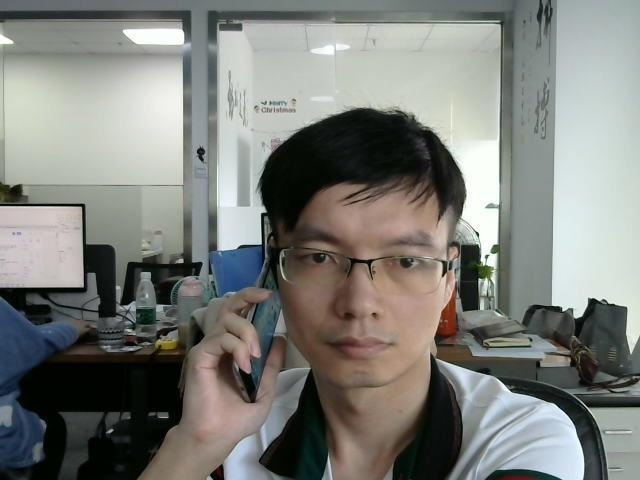hand: (186, 287, 287, 437)
